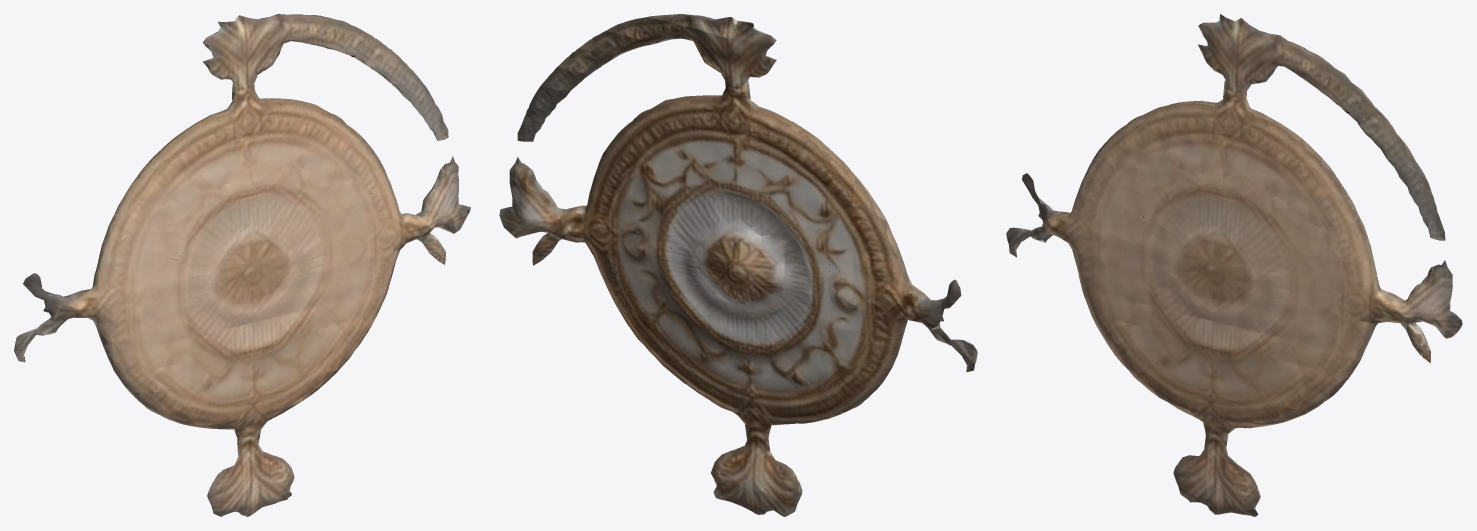
The model's file is 15_22_13_21_miniature-model-of-a-ceiling-medallion-with-ascending-angels.glb.
3 views of the same model, side by side, from view 1: azimuth 30°, elevation 25°; view 2: azimuth 150°, elevation 25°; view 3: azimuth 330°, elevation 25° (orthographic). The views are drawn at different scales.
Visible parts, largest first — view 1: world; view 2: world; view 3: world.
Part boxes in pixels (x1=…): world: x1=14, y1=14, x2=470, y2=516; world: x1=499, y1=14, x2=977, y2=516; world: x1=1006, y1=14, x2=1462, y2=516.
Bounding box in the file's own units: 0.9218 × 0.9402 × 0.0867.
Materials: 1 (1 with a texture image).
